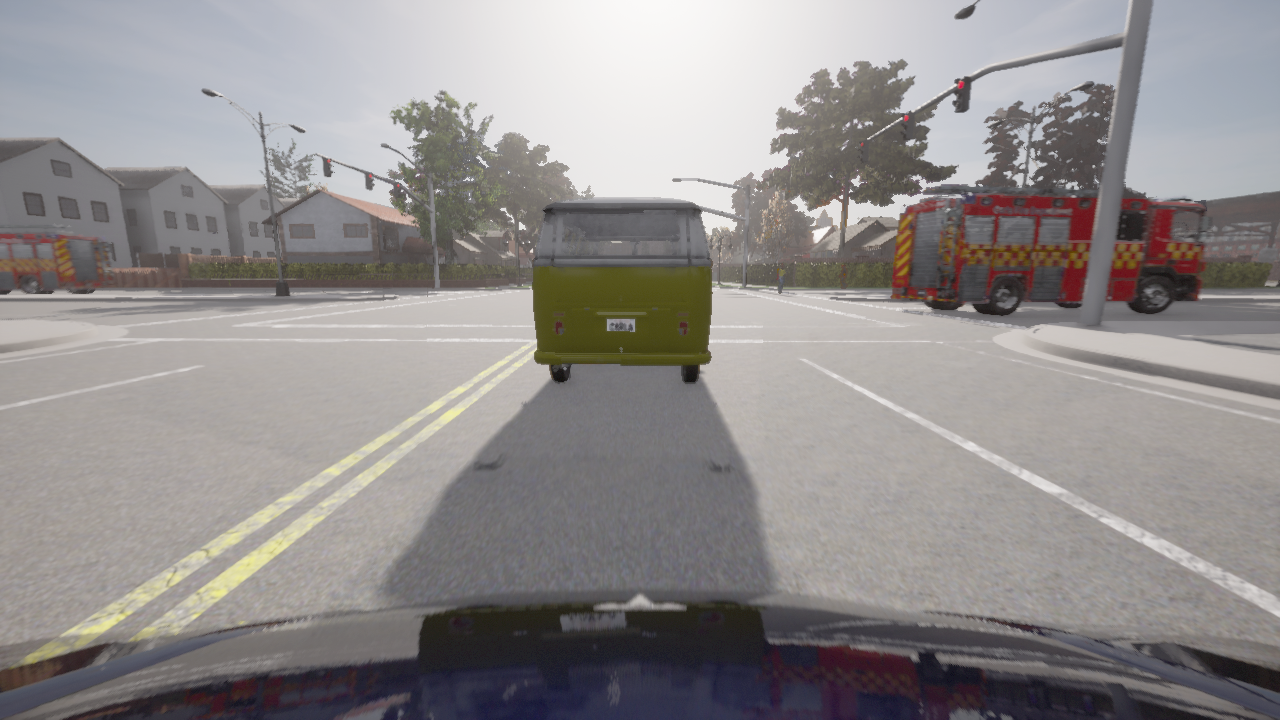cyclist: (0, 588, 1279, 719), (891, 184, 1211, 315), (533, 198, 711, 382)
pedestrian: (777, 264, 787, 291), (839, 264, 847, 287)
